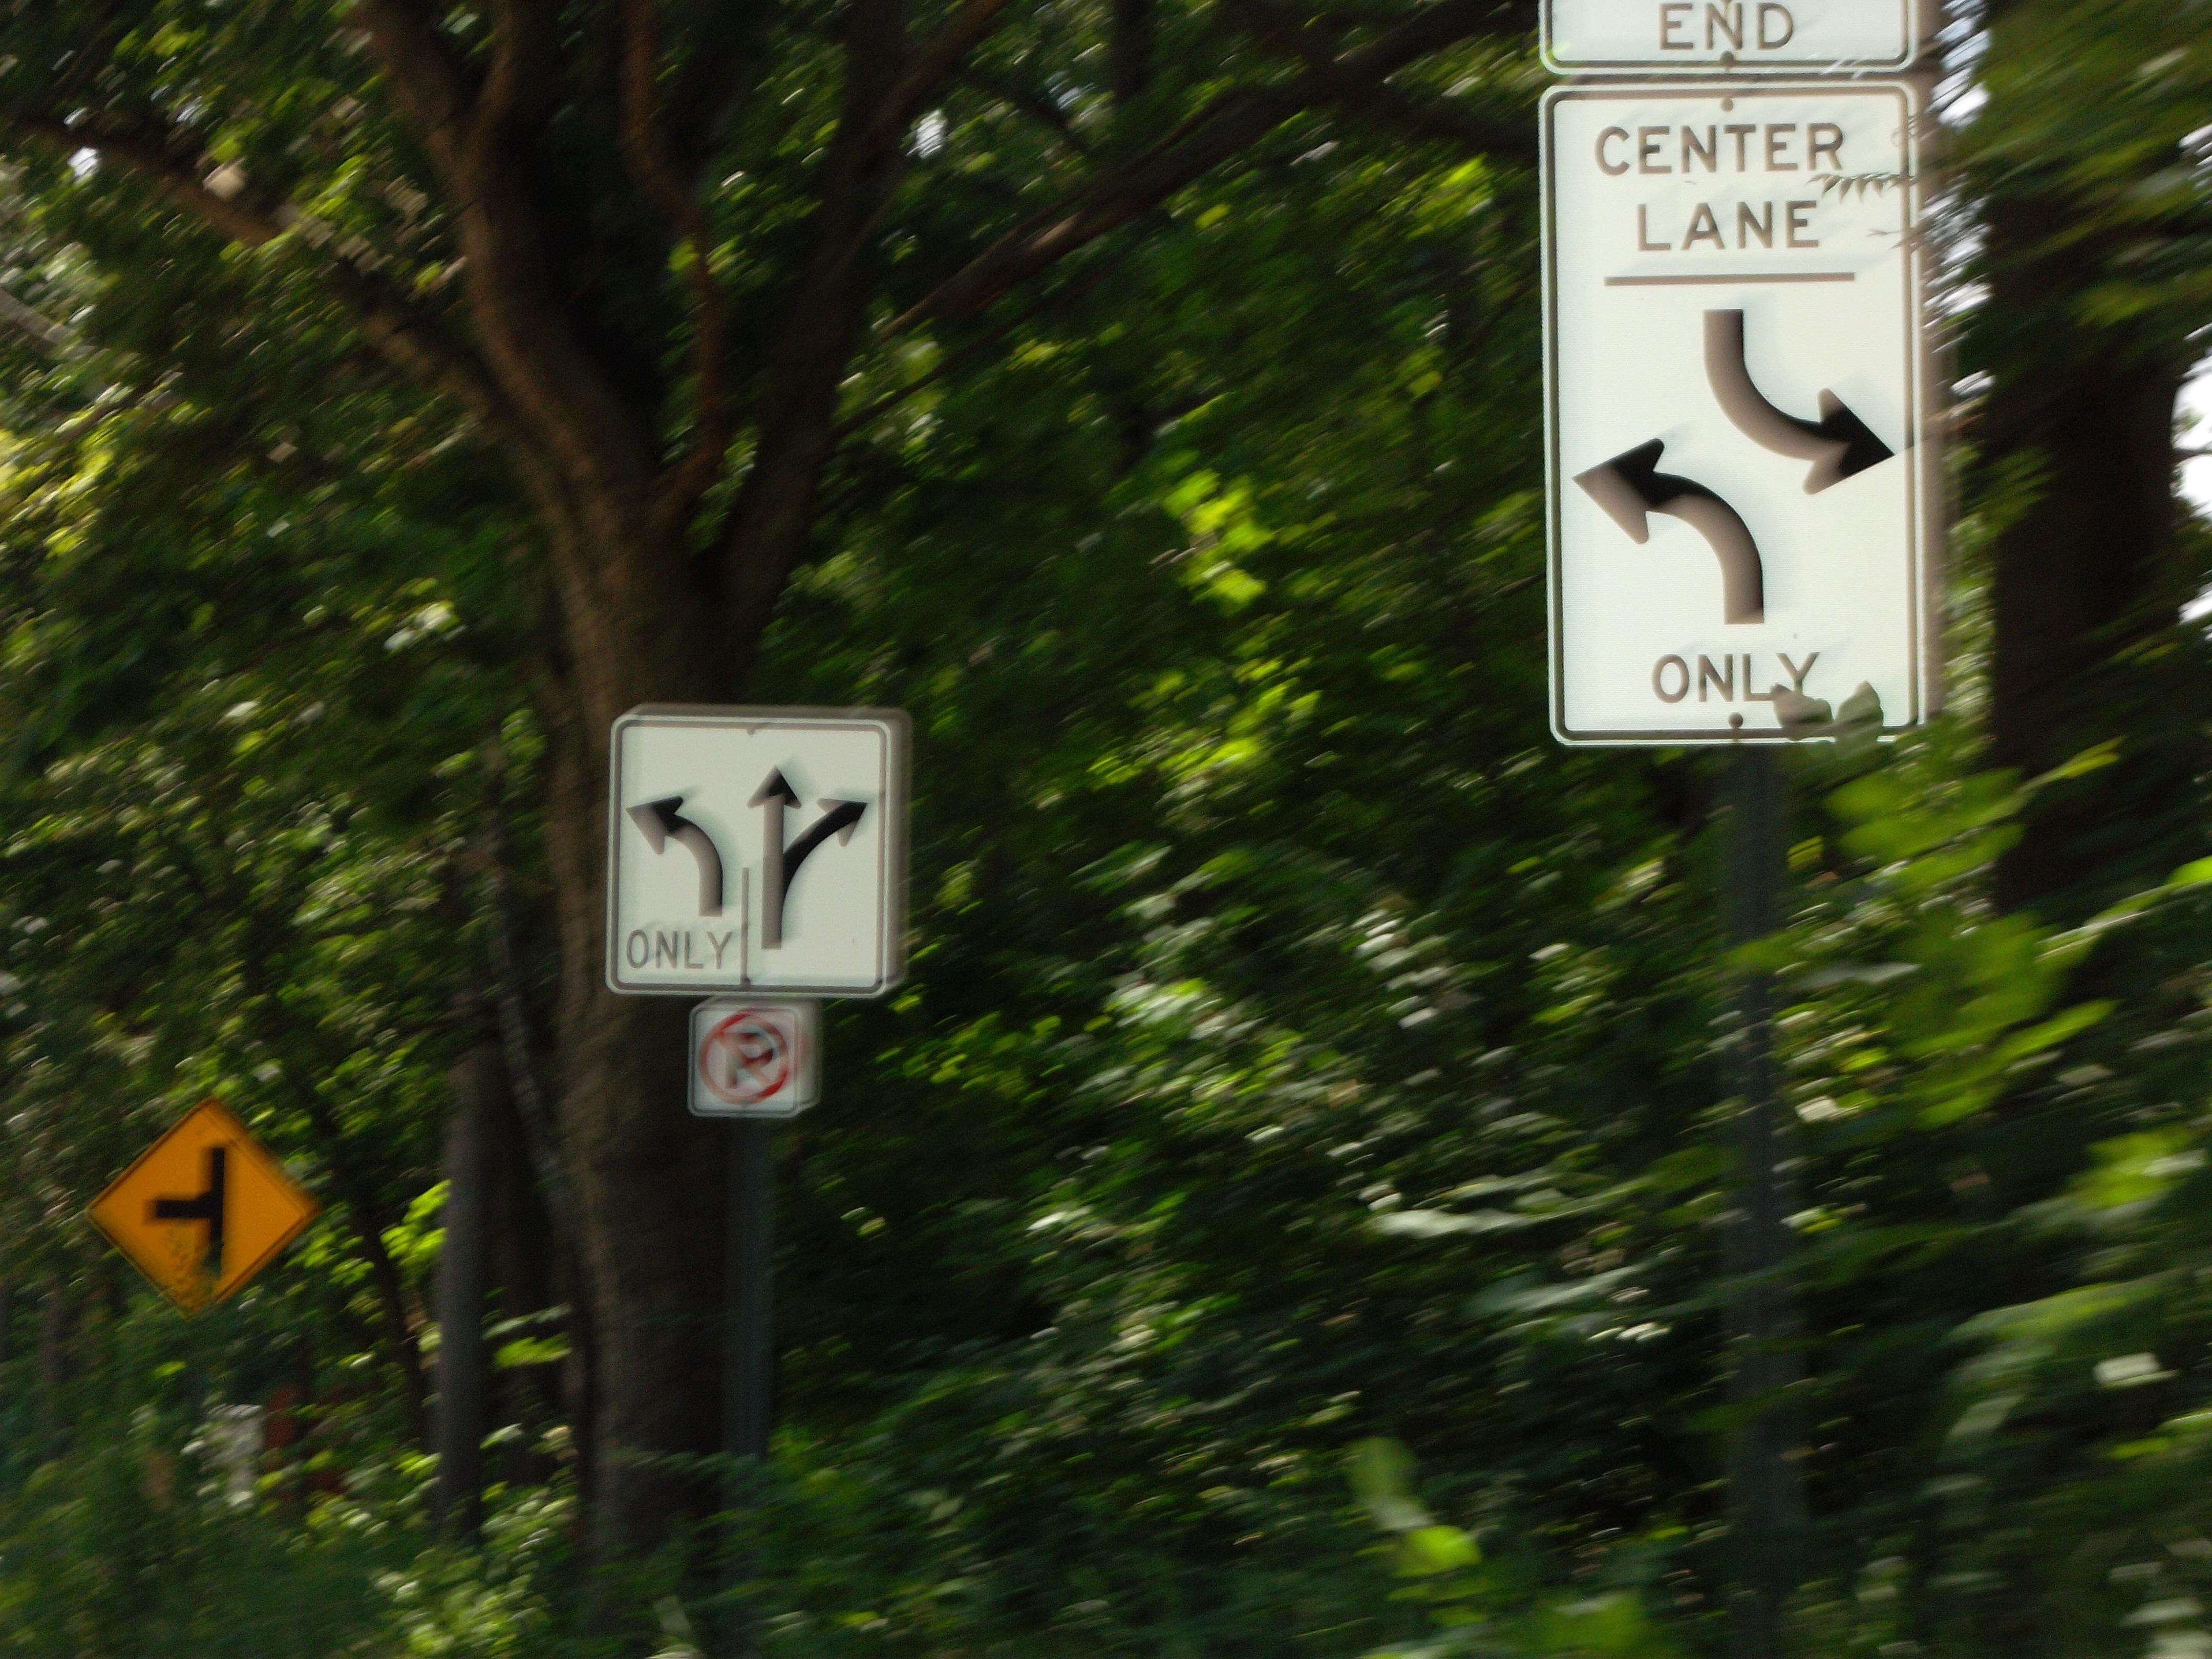regulatory: (1538, 78, 1939, 748), (610, 692, 888, 997), (683, 969, 831, 1171)
warning: (91, 1094, 305, 1324)
